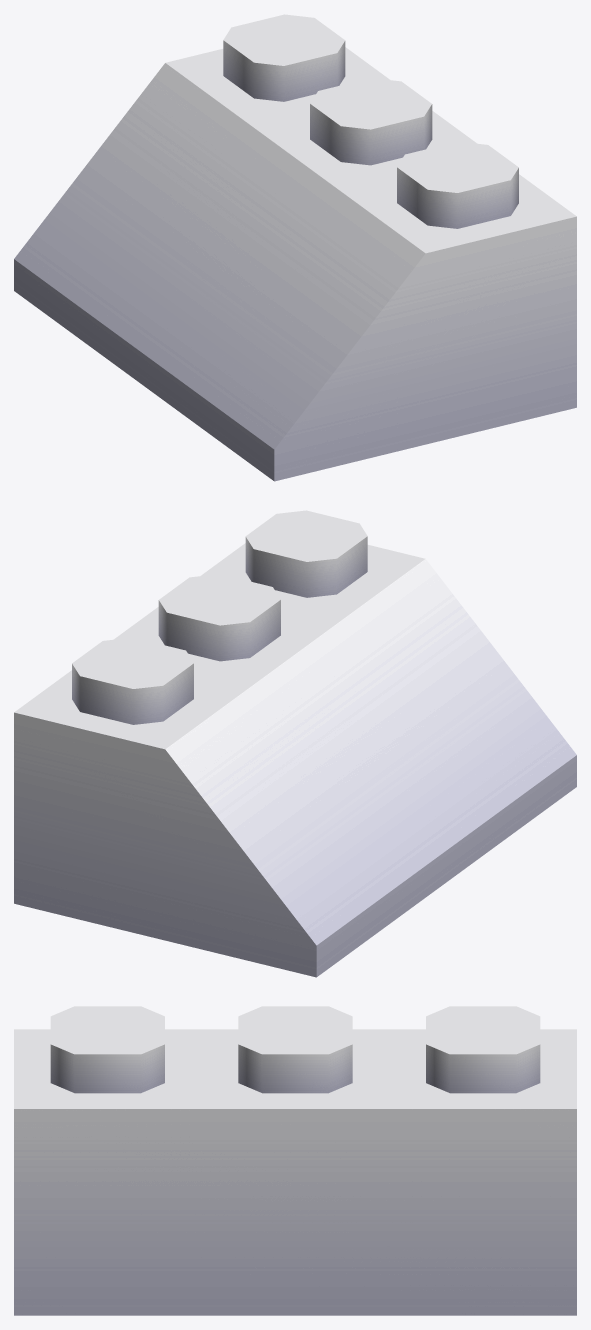
File: brick-kit--bevel-lq-brick-slope-2x3.glb
3 renders of one model, top to bottom at view 1: azimuth 30°, elevation 25°; view 2: azimuth 150°, elevation 25°; view 3: azimuth 270°, elevation 25°, orthographic. The views are drawn at different scales.
Visible parts, largest first — view 1: bevel-lq-brick-slope-2x3; view 2: bevel-lq-brick-slope-2x3; view 3: bevel-lq-brick-slope-2x3.
Boxes of the visible parts, x1,y1,x2,y2 form: bevel-lq-brick-slope-2x3: (14,14,576,481); bevel-lq-brick-slope-2x3: (14,510,576,977); bevel-lq-brick-slope-2x3: (14,1006,576,1315).
Size of the model in its own units: 0.159 by 0.114 by 0.237.
1 material, 1 textured.
